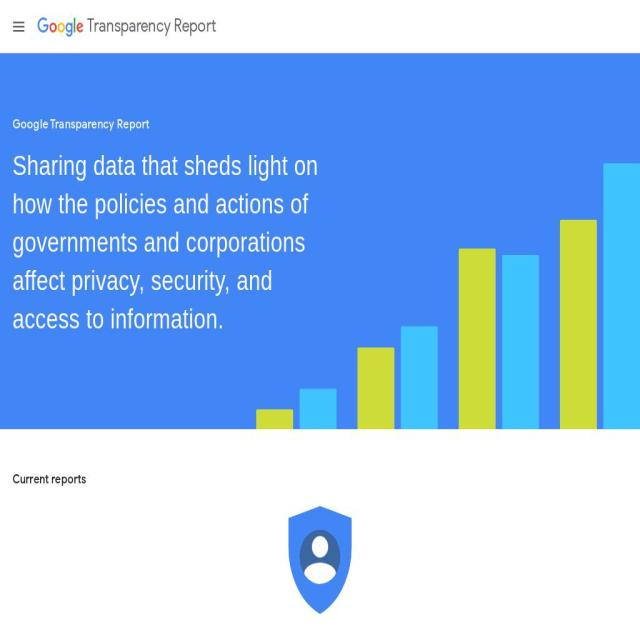button: (87, 16, 216, 36), (6, 8, 32, 42)
heading: (12, 114, 628, 135), (12, 468, 628, 489)
image: (38, 16, 84, 38)
text: (13, 145, 325, 337), (87, 13, 216, 37), (12, 16, 26, 36)
